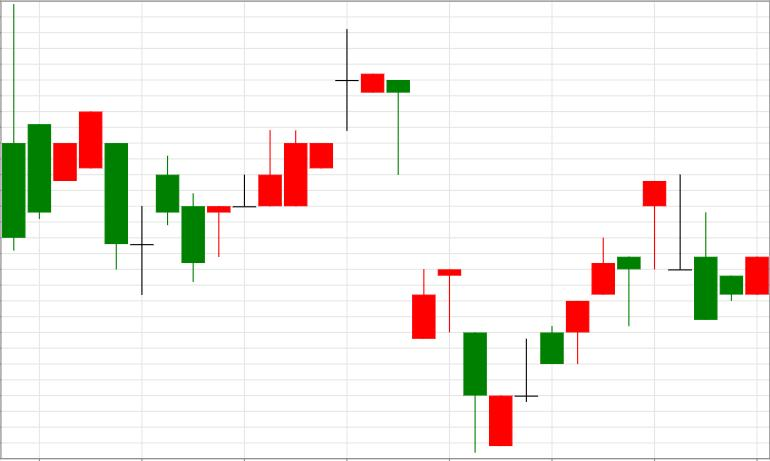hanging_man_fall: (490, 181, 666, 447)
